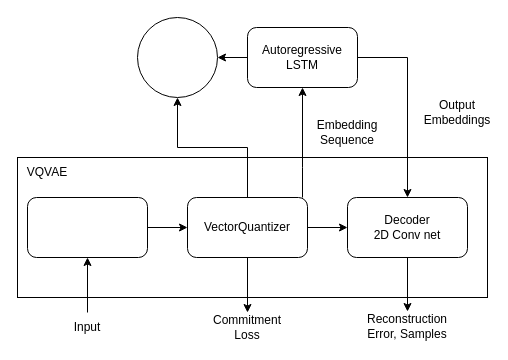
Image size: 508x360. Some labels were removed from this diagram. The box of each missing label's shape, as (x1, y1, x2, y2) in pixels:
Embedding space: (136, 16, 218, 98)
Encoder 2D conv net: (26, 196, 148, 258)
